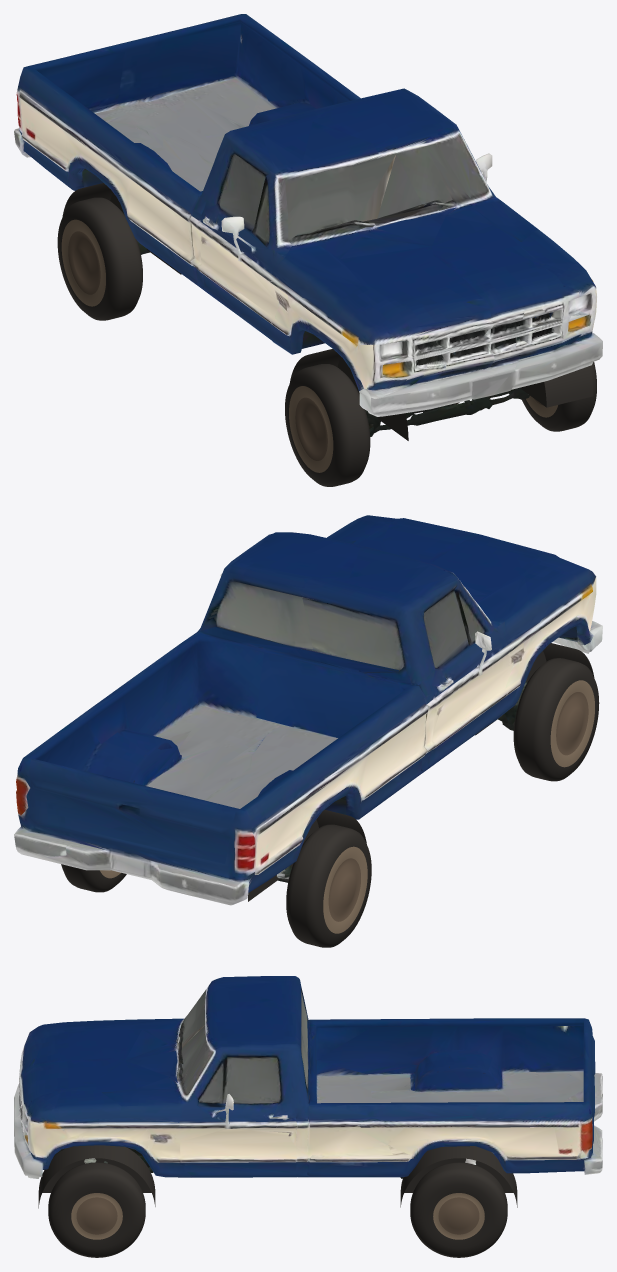
Rendered from VEH_M_BlueTwoTone_Drive.glb.
3 renders of one model, top to bottom at view 1: azimuth 30°, elevation 25°; view 2: azimuth 150°, elevation 25°; view 3: azimuth 270°, elevation 25°, orthographic. The views are drawn at different scales.
Parts seen in each view (by area): view 1: VEH_M_BlueTwoTone, Wheel_RR, Wheel_FR, Wheel_FL, Liner_Wheel_FL, Liner_Wheel_FR, Liner_Wheel_RR; view 2: VEH_M_BlueTwoTone, Wheel_FR, Wheel_RR, Wheel_RL, Liner_Wheel_RR, Liner_Wheel_FR; view 3: VEH_M_BlueTwoTone, Wheel_FL, Wheel_RL, Liner_Wheel_FL, Liner_Wheel_RL.
Boxes of the visible parts, <box> form: VEH_M_BlueTwoTone: <box>14,14,602,436</box>; Wheel_RR: <box>57,197,142,320</box>; Wheel_FR: <box>285,364,370,486</box>; Wheel_FL: <box>522,362,596,431</box>; Liner_Wheel_FL: <box>519,366,593,407</box>; Liner_Wheel_FR: <box>289,349,408,440</box>; Liner_Wheel_RR: <box>62,183,181,274</box>; VEH_M_BlueTwoTone: <box>14,515,602,905</box>; Wheel_FR: <box>513,658,599,781</box>; Wheel_RR: <box>286,824,371,947</box>; Wheel_RL: <box>61,864,126,892</box>; Liner_Wheel_RR: <box>248,810,366,901</box>; Liner_Wheel_FR: <box>475,643,594,735</box>; VEH_M_BlueTwoTone: <box>14,976,602,1178</box>; Wheel_FL: <box>48,1162,145,1257</box>; Wheel_RL: <box>410,1162,507,1257</box>; Liner_Wheel_FL: <box>38,1145,155,1208</box>; Liner_Wheel_RL: <box>400,1146,517,1207</box>.
Bounding box in the file's own units: 2.19 × 1.98 × 5.2.
4 materials, 1 textured.
